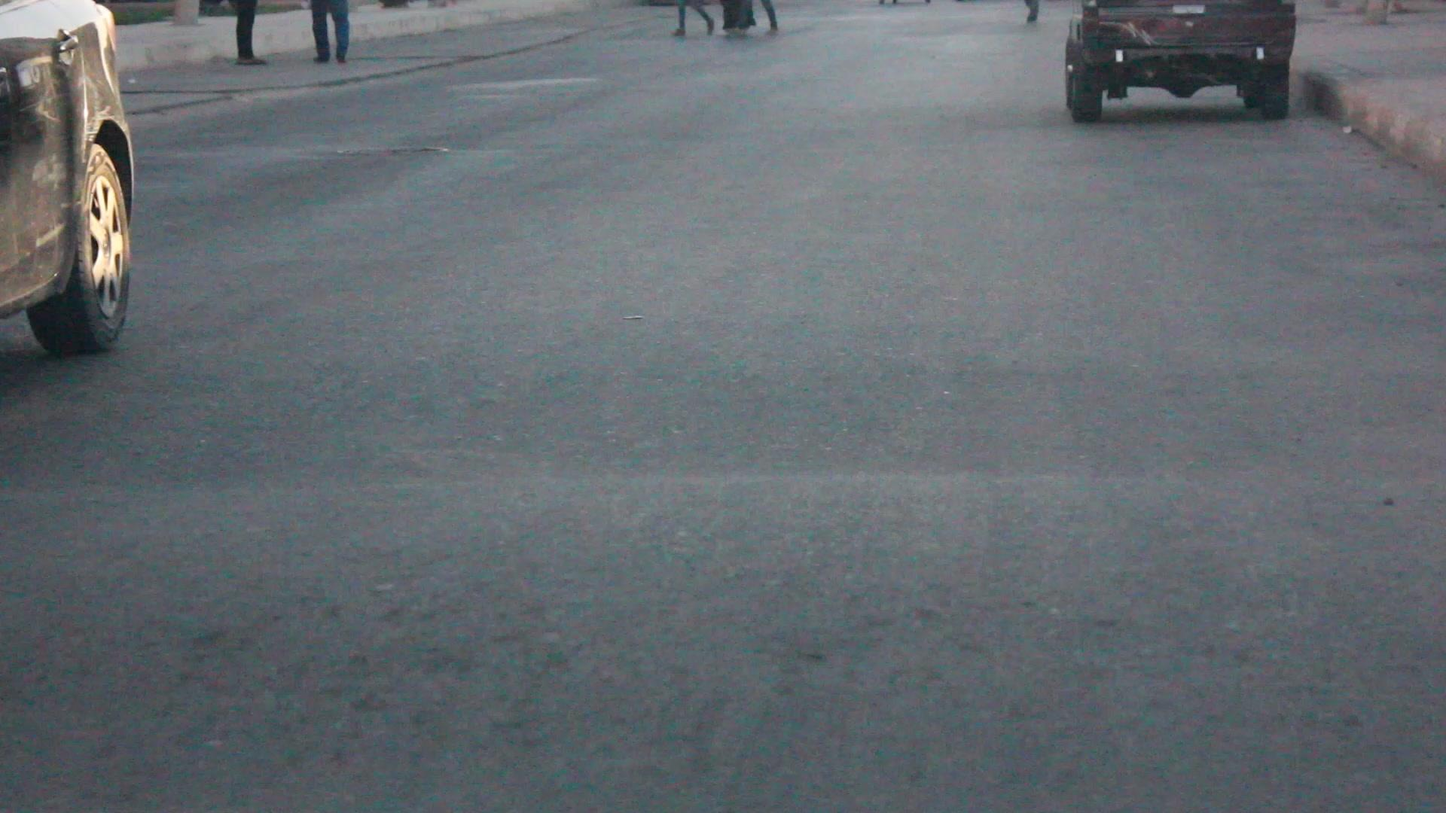Bump: (0, 469, 1446, 813)
